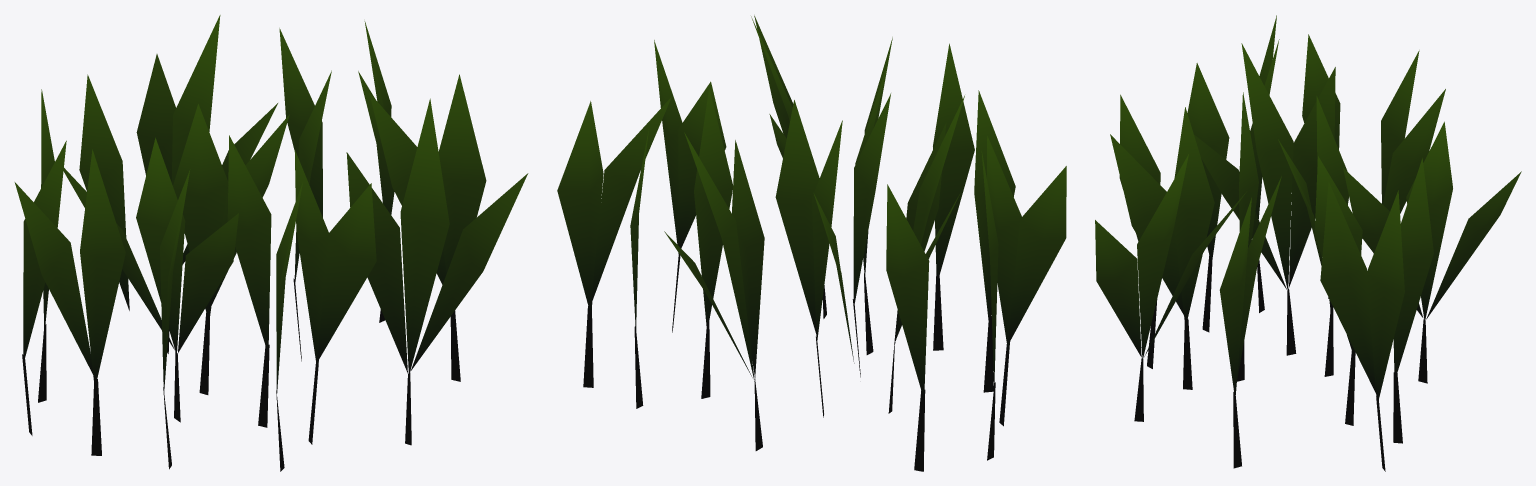
The model's file is TSI_Plant_21C.fbx.
The picture shows the model from 3 angles, left to right: view 1: azimuth 30°, elevation 25°; view 2: azimuth 150°, elevation 25°; view 3: azimuth 270°, elevation 25°; orthographic projection. The views are drawn at different scales.
Visible parts, largest first — view 1: TSI_Plant_21C_LOD0; view 2: TSI_Plant_21C_LOD0; view 3: TSI_Plant_21C_LOD0.
Boxes of the visible parts, x1=… form: TSI_Plant_21C_LOD0: x1=14, y1=15, x2=528, y2=471; TSI_Plant_21C_LOD0: x1=557, y1=15, x2=1066, y2=471; TSI_Plant_21C_LOD0: x1=1095, y1=15, x2=1521, y2=471.
Bounding box in the file's own units: 170 × 115 × 153.
